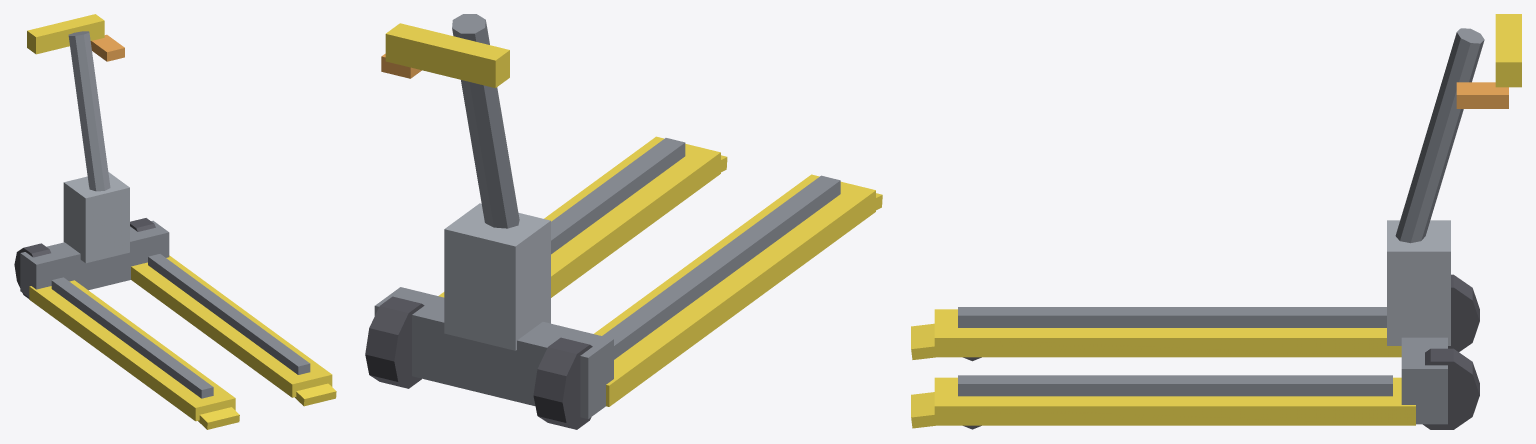
The model's file is pallet_jack.glb.
3 renders of one model, left to right at view 1: azimuth 30°, elevation 25°; view 2: azimuth 150°, elevation 25°; view 3: azimuth 270°, elevation 25°, orthographic. The views are drawn at different scales.
Visible parts, largest first — view 1: pallet_jack; view 2: pallet_jack; view 3: pallet_jack.
Boxes of the visible parts, box(x1,y1,x2,y2) form: pallet_jack: box(14, 14, 336, 429); pallet_jack: box(365, 14, 882, 429); pallet_jack: box(911, 14, 1521, 429).
Bounding box in the file's own units: 0.75 × 1.29 × 2.
